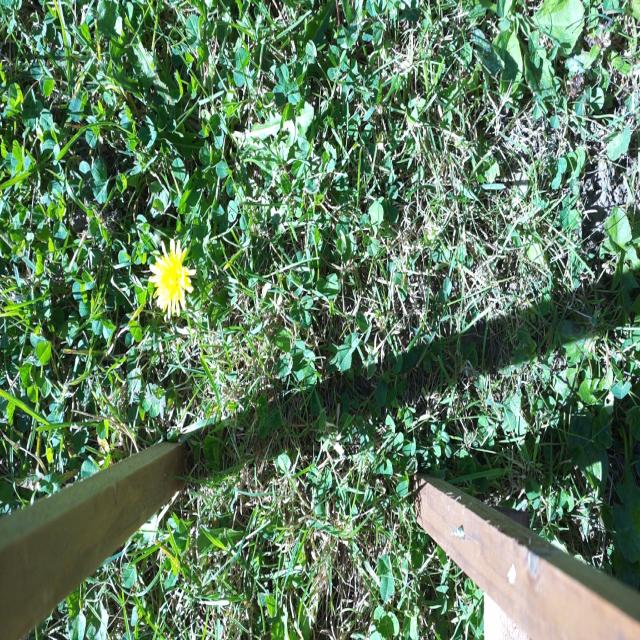flower: (147, 238, 194, 317)
